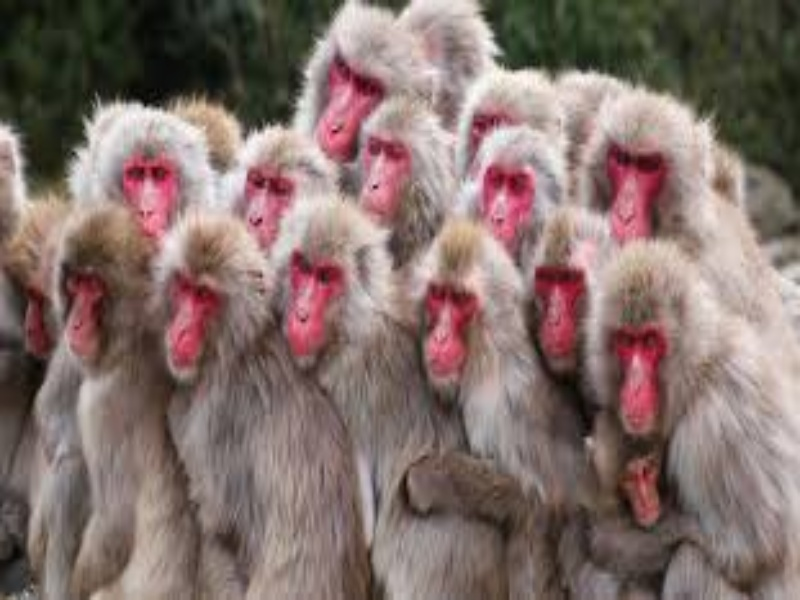monkey: (8, 19, 784, 585)
